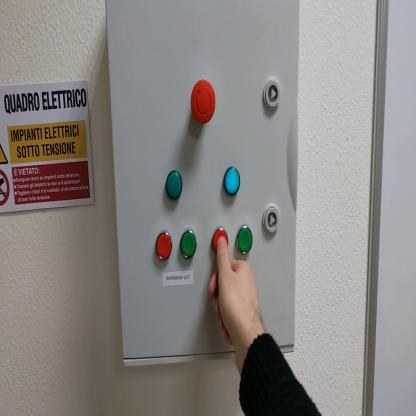hand: (210, 233, 264, 351)
left green button: (183, 231, 197, 262)
left red button: (157, 235, 172, 261)
right green button: (239, 225, 253, 254)
right red button: (211, 227, 229, 254)
